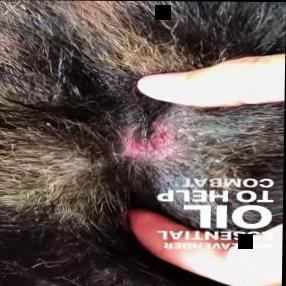skin_lesions: (122, 116, 178, 164)
